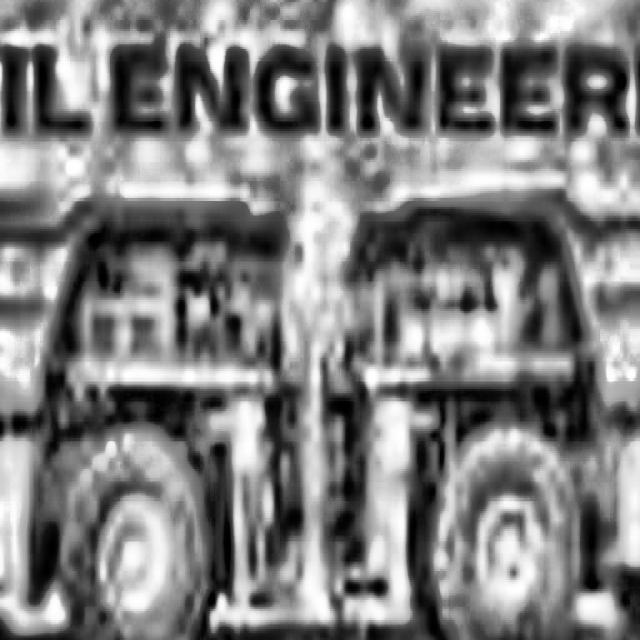dump_truck: (317, 175, 640, 640), (0, 175, 299, 640)
